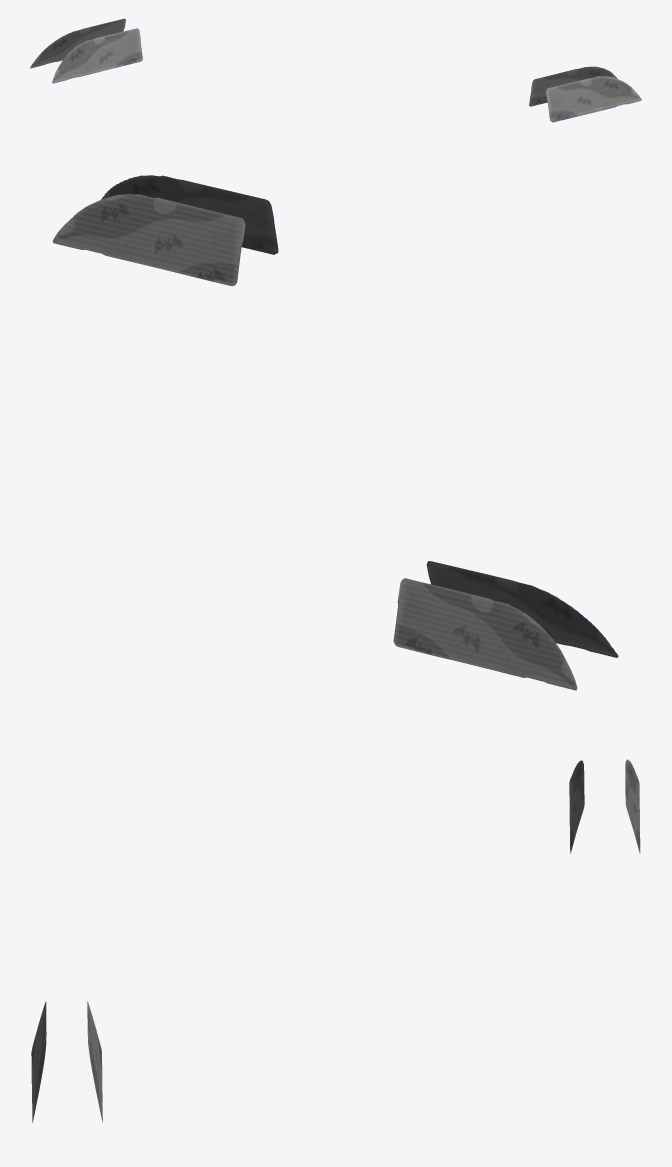
Rendered from pref_sm_4v4beachtech_bk_WSJ_downblock_d01a_lv0.fbx.
3 views of the same model, one above another, from view 1: azimuth 30°, elevation 25°; view 2: azimuth 150°, elevation 25°; view 3: azimuth 270°, elevation 25° (orthographic). The views are drawn at different scales.
Parts seen in each view (by area): view 1: pref_sm_4v4beachtech_bk_WSJ_downblock_d01a_lv0; view 2: pref_sm_4v4beachtech_bk_WSJ_downblock_d01a_lv0; view 3: pref_sm_4v4beachtech_bk_WSJ_downblock_d01a_lv0.
Boxes of the visible parts, <box> form: pref_sm_4v4beachtech_bk_WSJ_downblock_d01a_lv0: <box>30,18,641,122</box>; pref_sm_4v4beachtech_bk_WSJ_downblock_d01a_lv0: <box>52,175,618,690</box>; pref_sm_4v4beachtech_bk_WSJ_downblock_d01a_lv0: <box>31,759,640,1122</box>.
Size of the model in its own units: 15.65 by 1.54 by 11.63.
